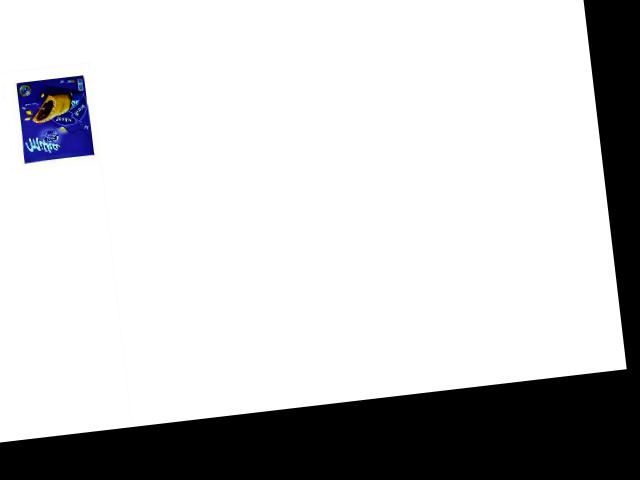chocolate: (10, 69, 97, 168)
